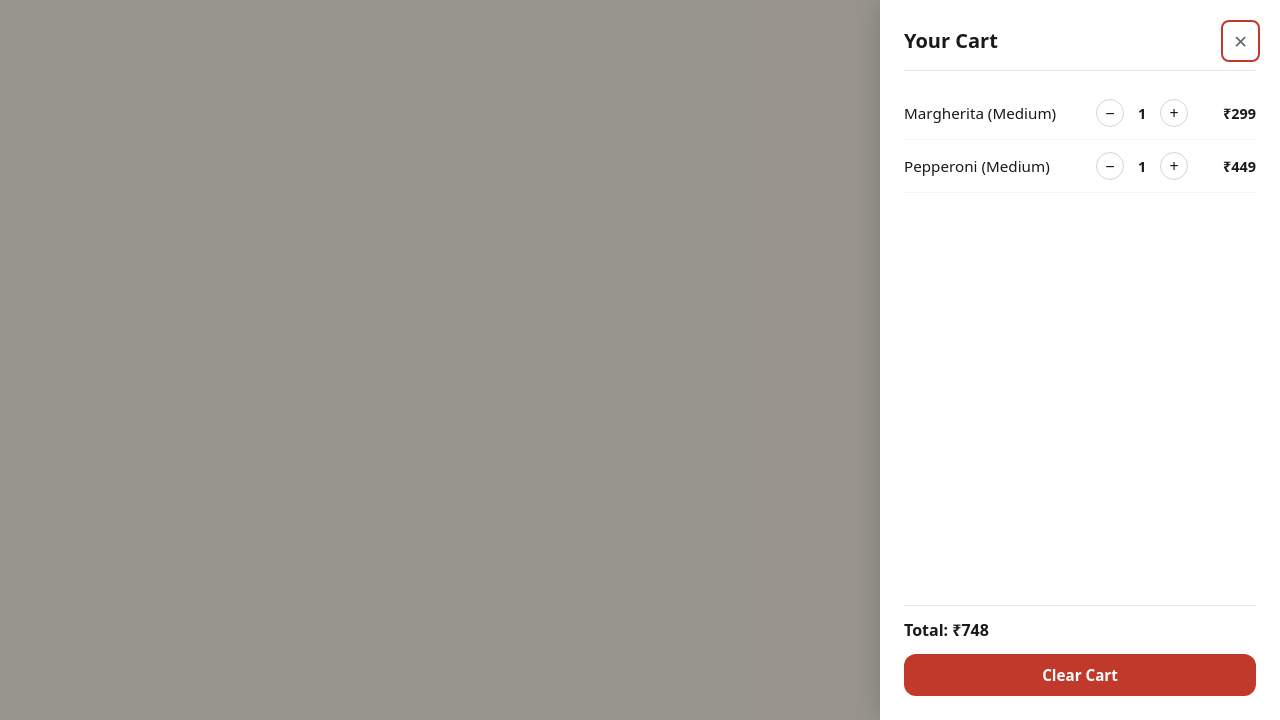
CartPanel – Clear Cart › clicking "Clear Cart" empties the rendered list
Expected: the text "Margherita (Medium)" is shown, [904,103,1056,123]
Expected: the text "Pepperoni (Medium)" is shown, [904,156,1050,176]
Click the button "Clear Cart": x=1080, y=675 [904,654,1256,696]
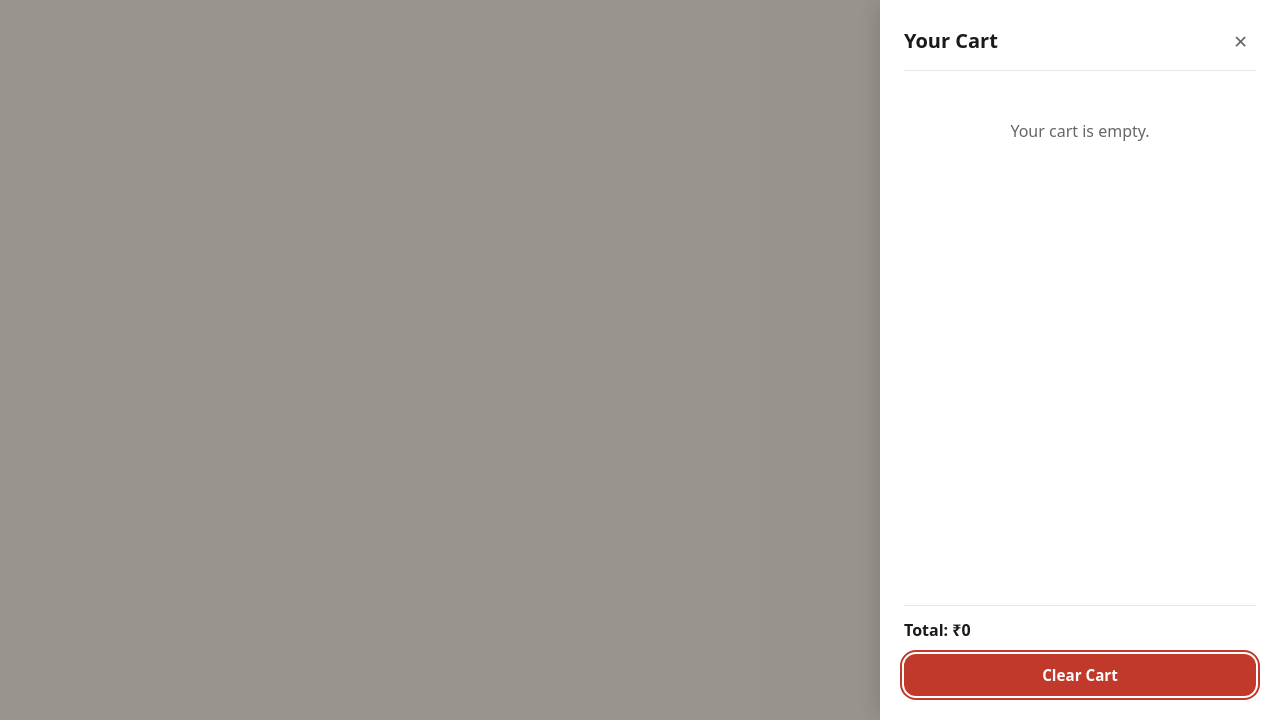
Expected: the text "Margherita (Medium)" is gone
Expected: the text "Pepperoni (Medium)" is gone
Expected: the text "Your cart is empty." is shown, [1010,120,1150,142]
